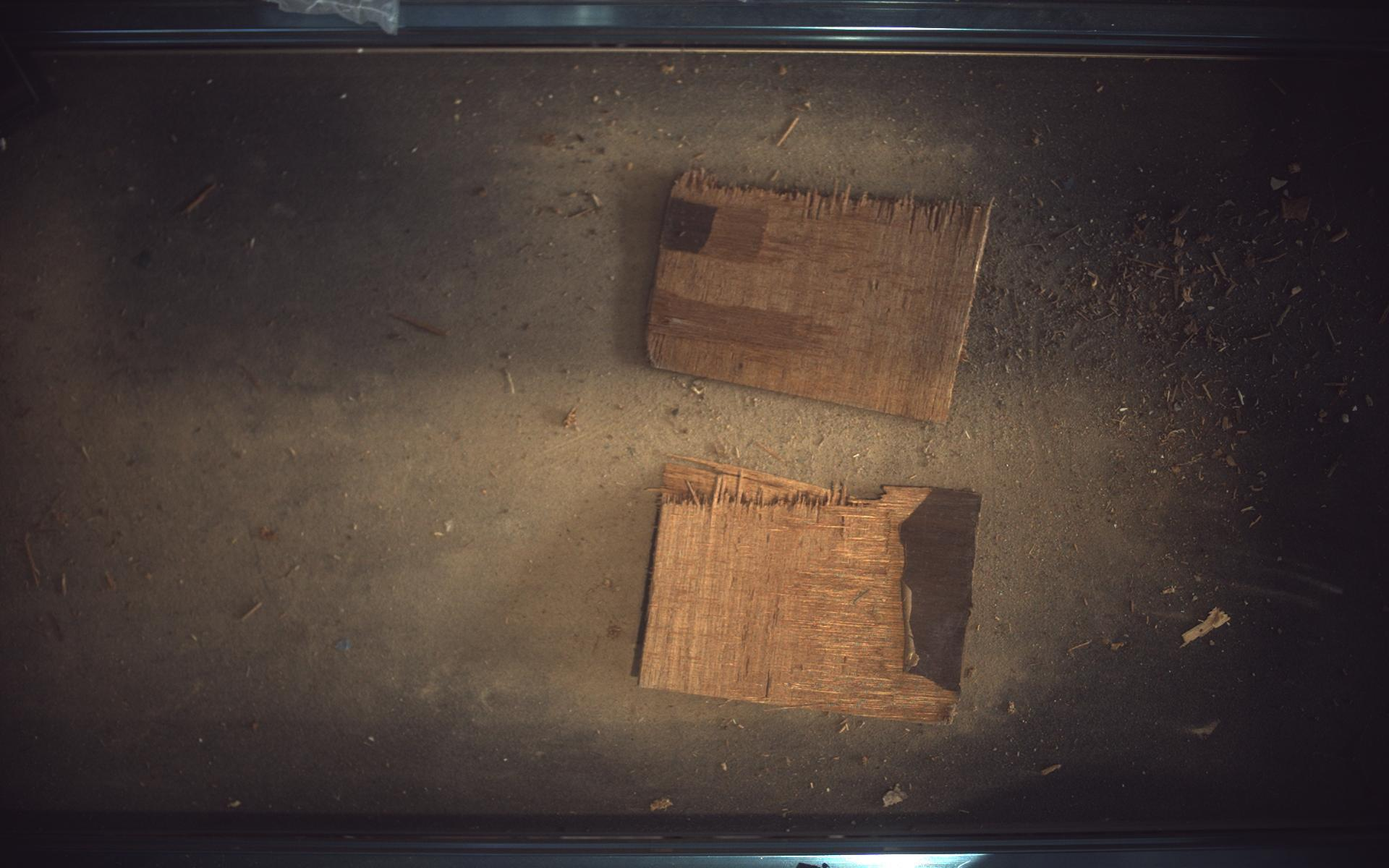wood: (640, 459, 982, 723), (648, 169, 993, 421)
